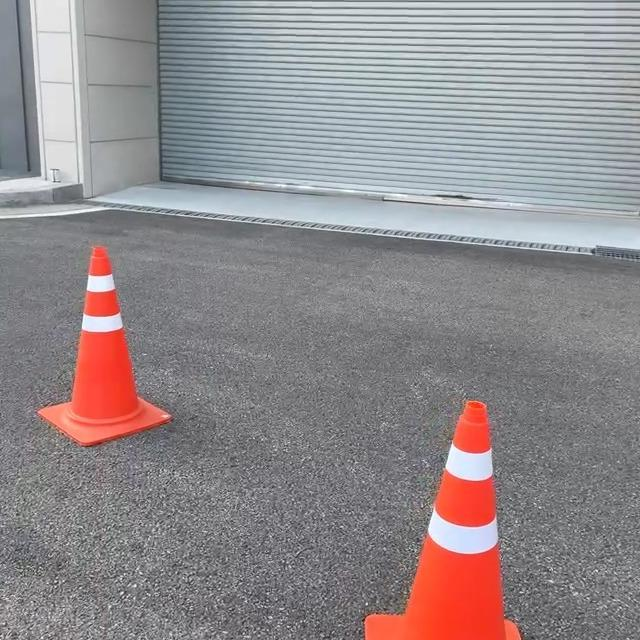fallen_object: (313, 330, 596, 640), (8, 176, 248, 502)
